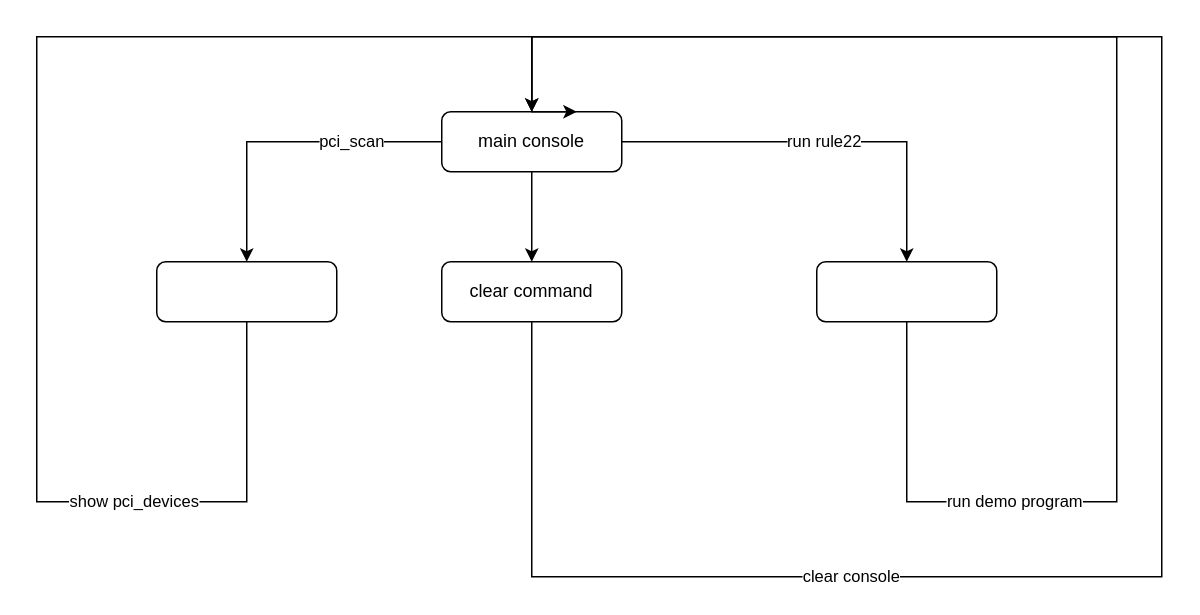
Image size: 1200x615. Some labels were removed from this diagram. Here are the shapes that lost their labels. From the top down, the centre of each, then its label:
(246,291): PCI bus scanning
(906,291): cellular automaton rule22 program
